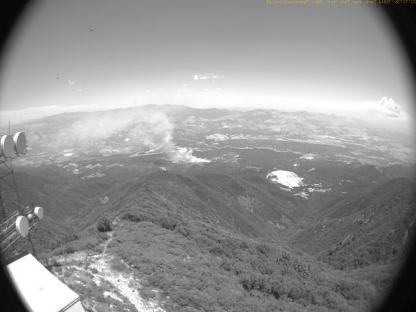smoke: (38, 105, 216, 167)
